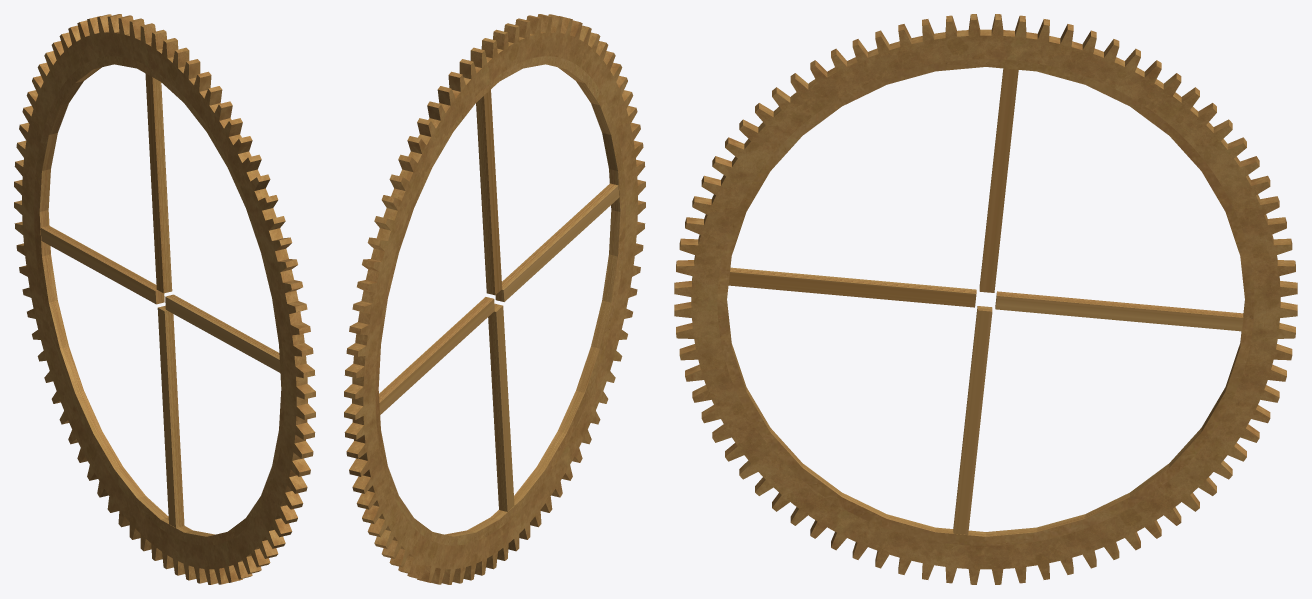
File: MarsRouePrincipale.fbx
The picture shows the model from 3 angles, left to right: view 1: azimuth 30°, elevation 25°; view 2: azimuth 150°, elevation 25°; view 3: azimuth 270°, elevation 25°; orthographic projection. The views are drawn at different scales.
Visible parts, largest first — view 1: MarsGearGrande, MarsContourRouePrincipale; view 2: MarsGearGrande, MarsContourRouePrincipale; view 3: MarsGearGrande, MarsContourRouePrincipale.
Boxes of the visible parts, x1,y1,x2,y2 form: MarsGearGrande: (14,14,315,584); MarsContourRouePrincipale: (34,56,284,545); MarsGearGrande: (344,14,645,584); MarsContourRouePrincipale: (375,56,625,545); MarsGearGrande: (674,14,1297,584); MarsContourRouePrincipale: (717,59,1254,545).
Bounding box in the file's own units: 10 × 443 × 443.
2 materials, 2 textured.
